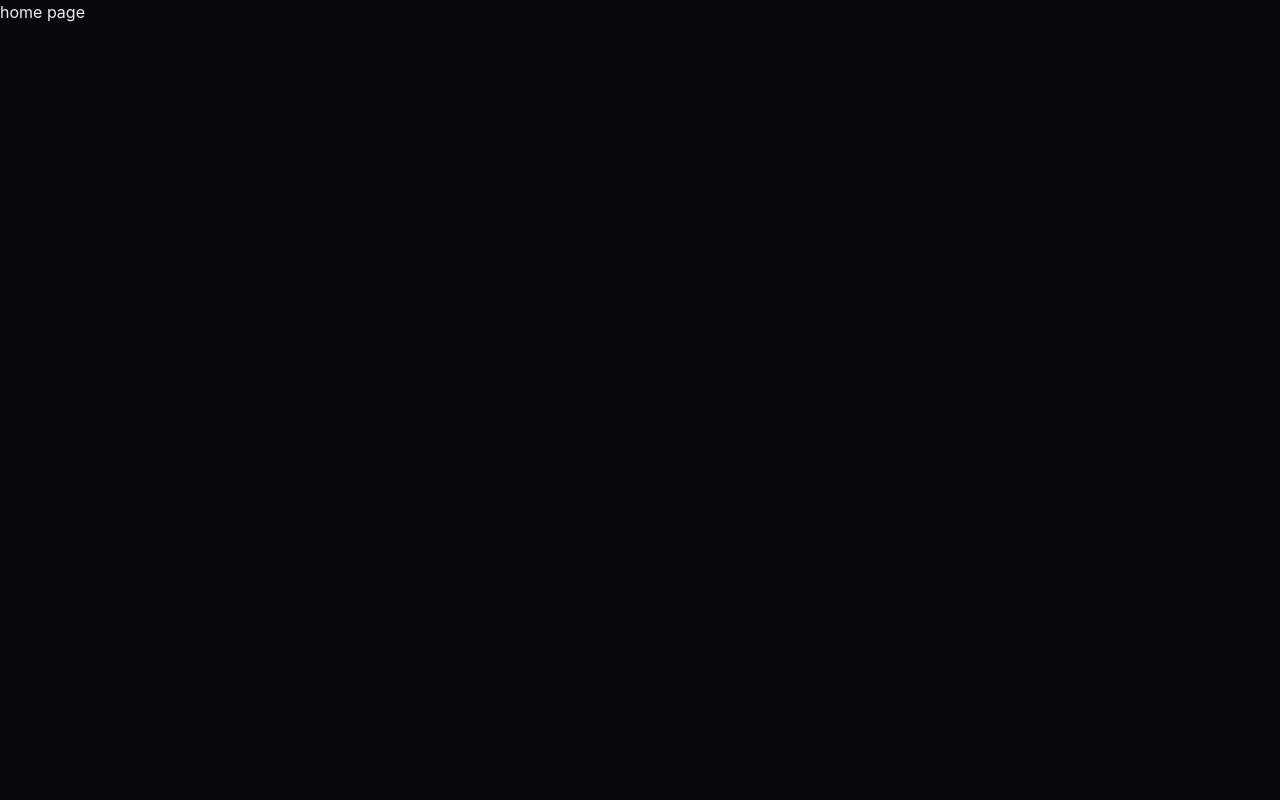
CommandPalette › shows an empty state when no command matches
This screenshot has width=1280, height=800.
Press k
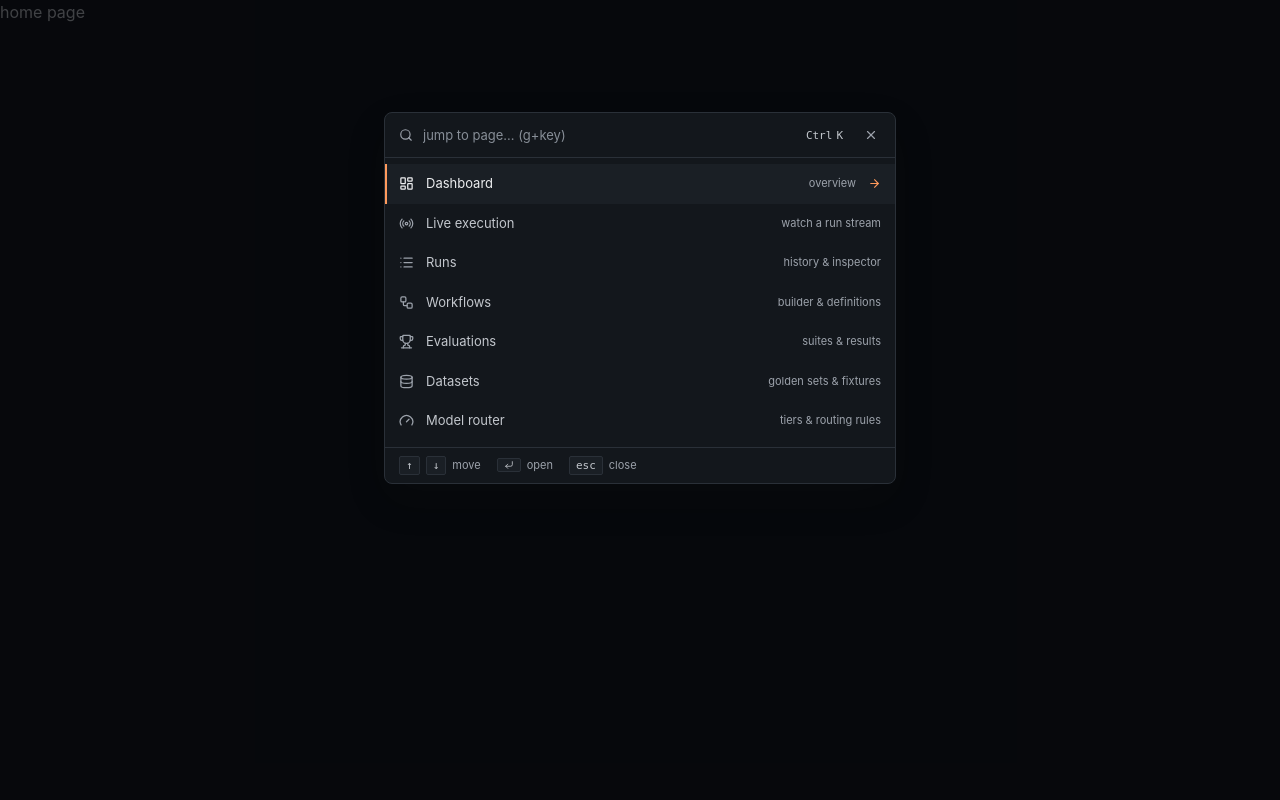
Type "no-such-page" into the field named "Search commands" at (609, 135), box [423,113,796,157]
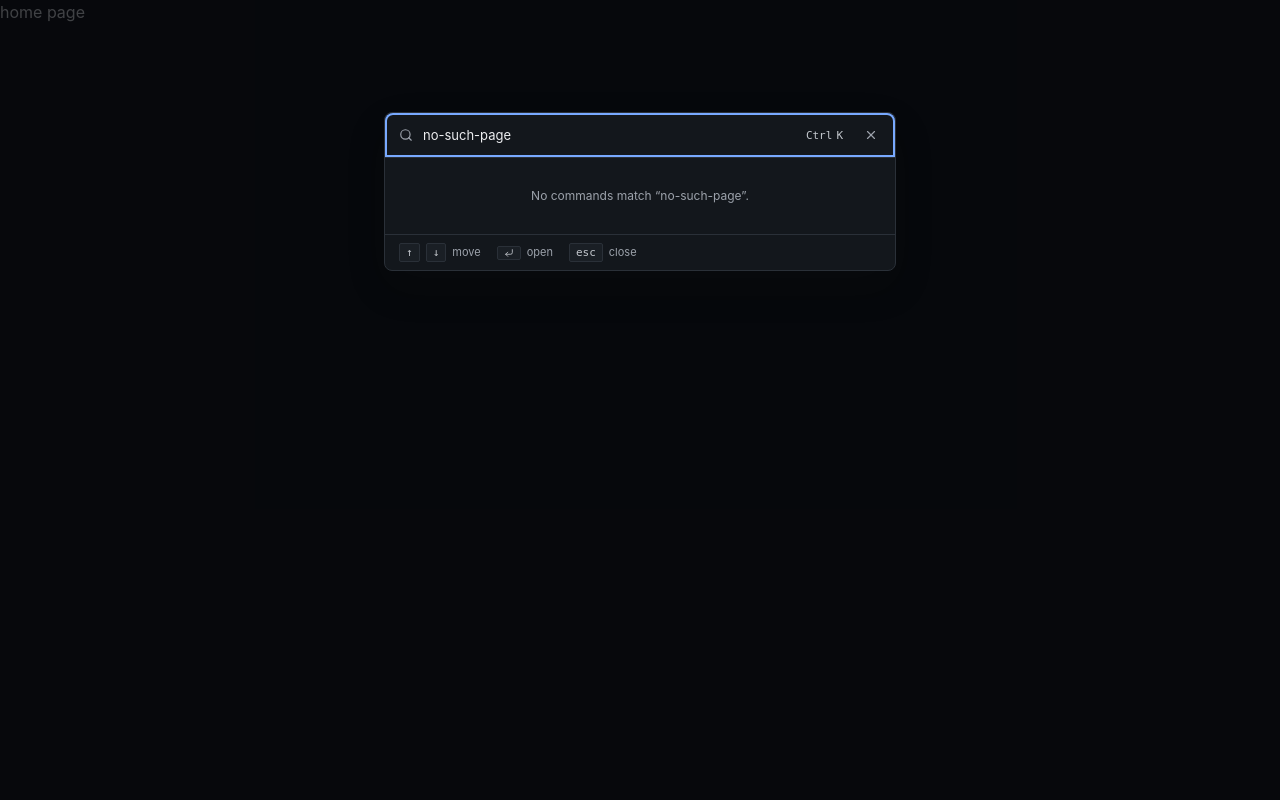
Check: the list item "No commands match “no-such-page”." is shown, box [531,188,749,203]
